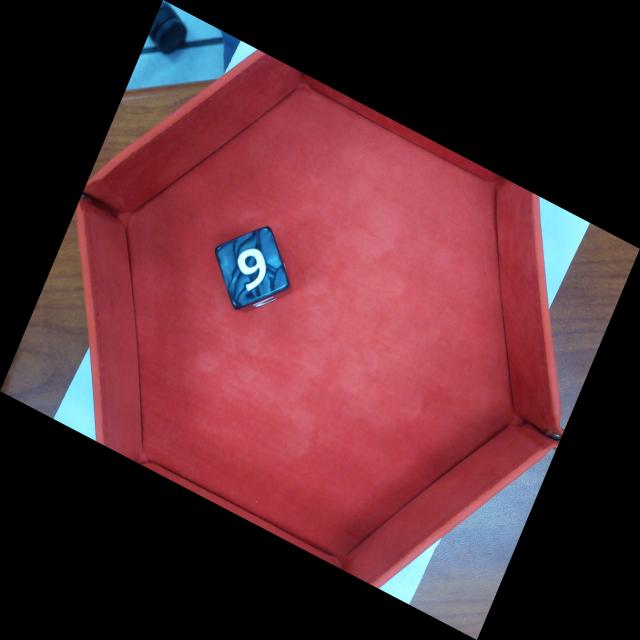dice: (216, 230, 286, 306)
